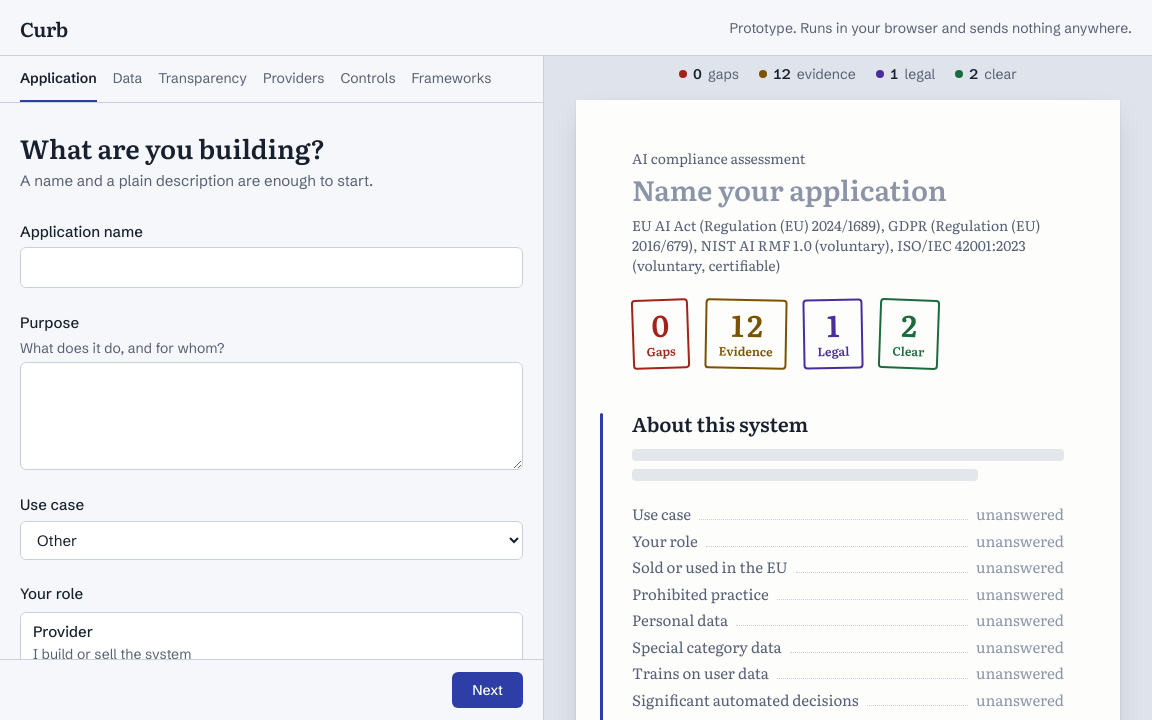
Test: Workspace › explains an empty framework selection and blocks the PDF until it can be built
Step 1. Click the button "Frameworks" → (451, 79), box [412, 56, 491, 102]
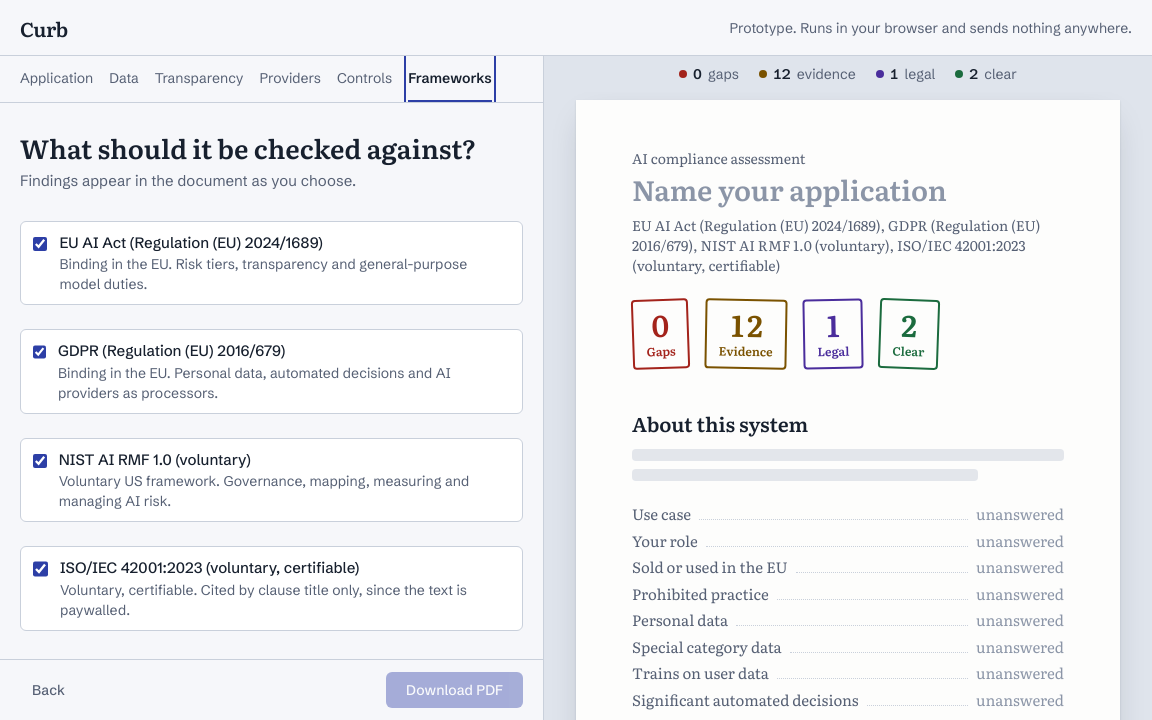
Now the button "Download PDF" is disabled, box [386, 672, 523, 708]
Step 2. Click the 1st checkbox → (40, 244), box [33, 236, 47, 252]
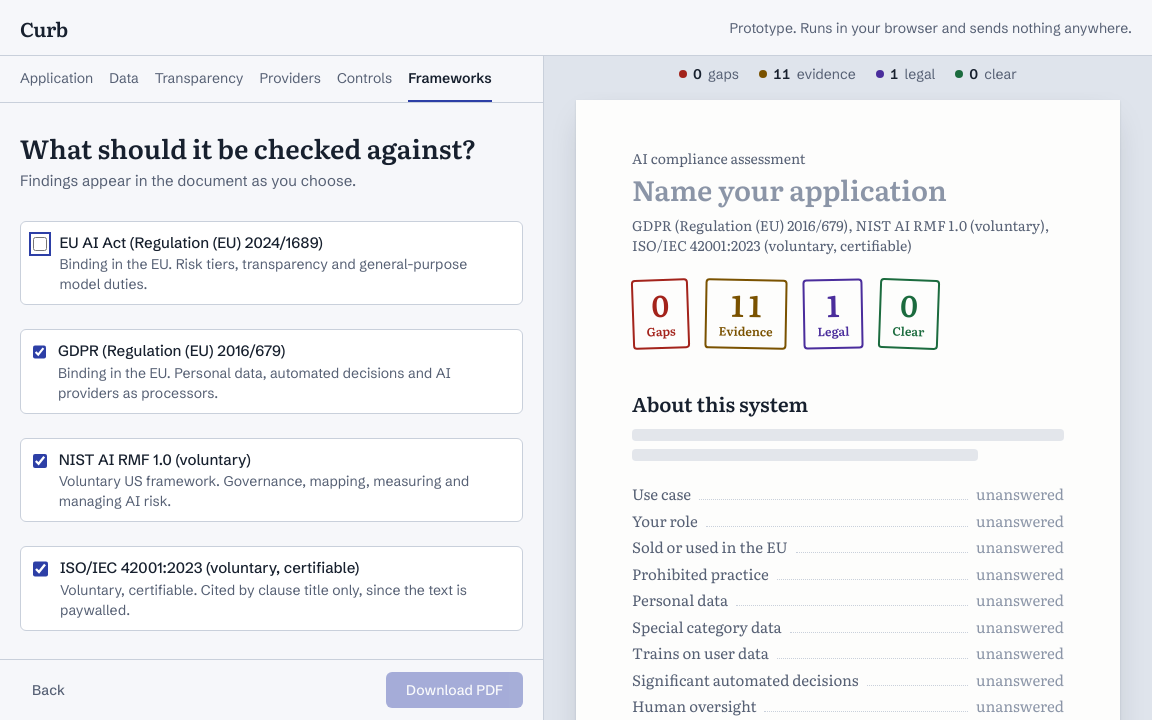
Step 3. Click the 2nd checkbox → (40, 352), box [33, 344, 46, 360]
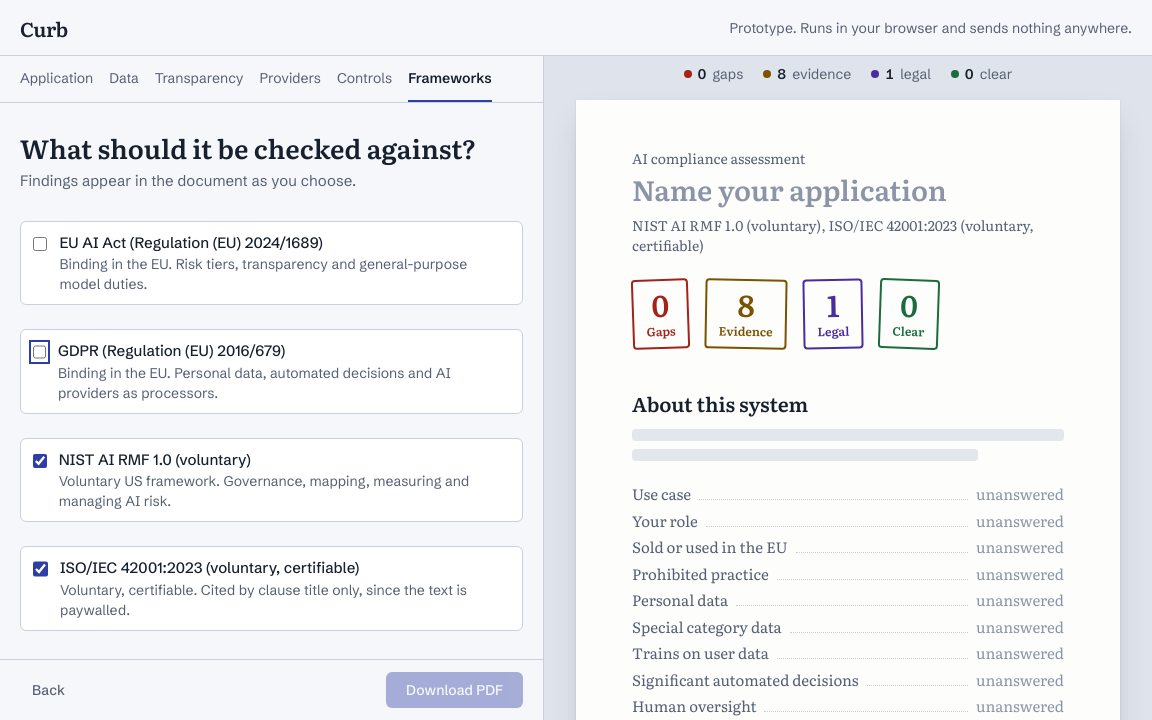
Step 4. Click the 3rd checkbox → (40, 460), box [33, 452, 47, 468]
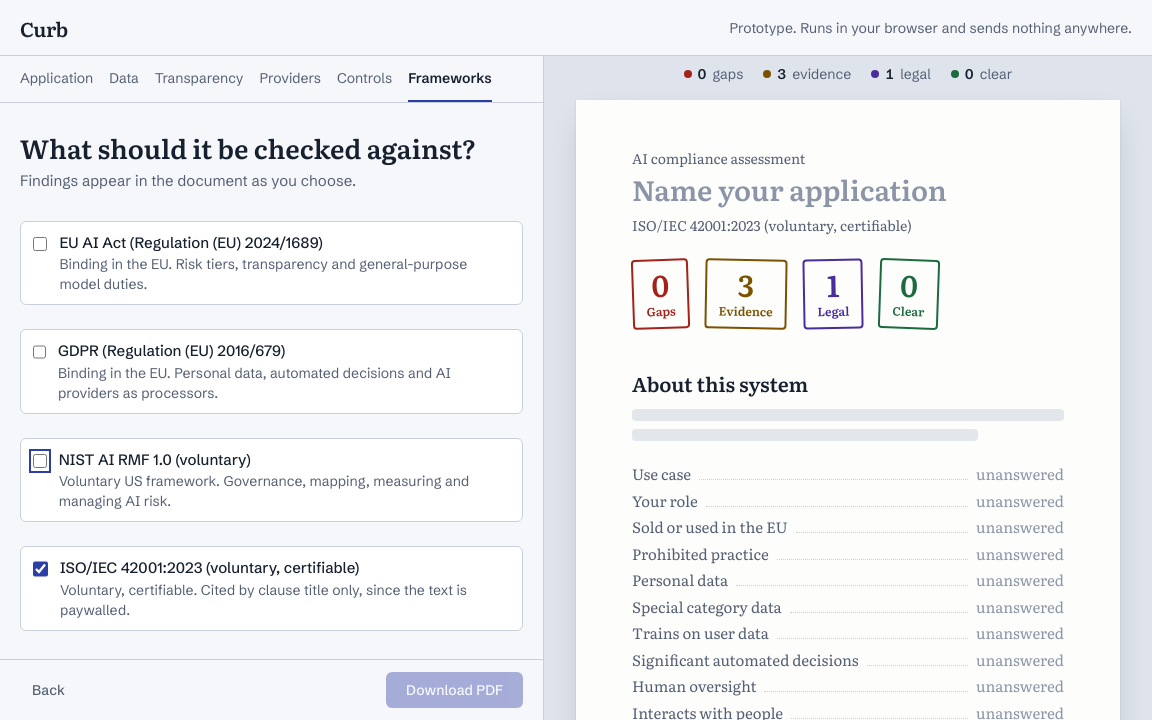
Step 5. Click the 4th checkbox → (40, 569), box [33, 561, 48, 577]
(page scrolled)
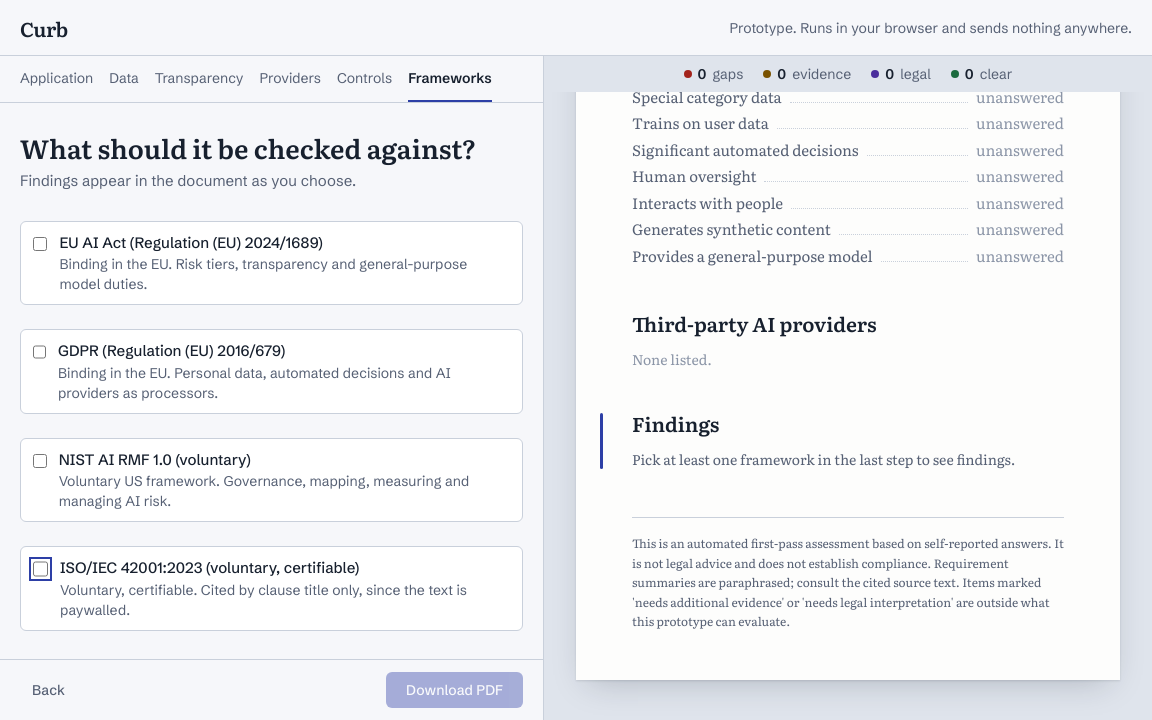
Now the text "Pick at least one framework" is shown, box [632, 449, 1016, 469]
